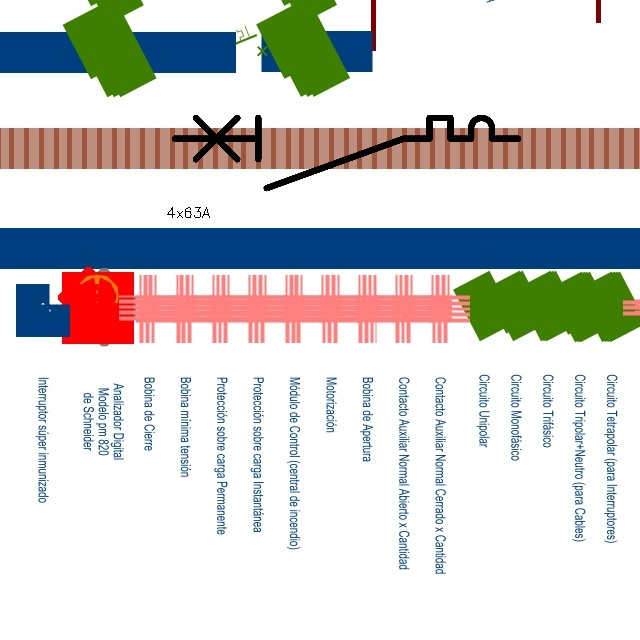interruptor_termomagnetico: (166, 109, 527, 197)
